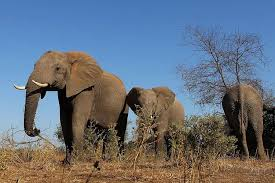Elephant: (10, 49, 127, 162)
